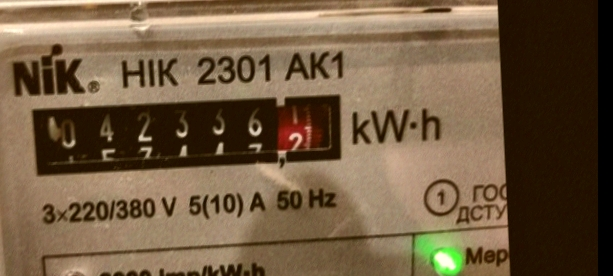0: (56, 117, 77, 151)
1: (286, 100, 299, 127)
2: (132, 109, 154, 144), (284, 131, 302, 153)
3: (169, 106, 188, 139), (208, 105, 226, 137)
4: (96, 111, 114, 144)
6: (243, 105, 264, 140)
screen: (17, 81, 356, 187)
